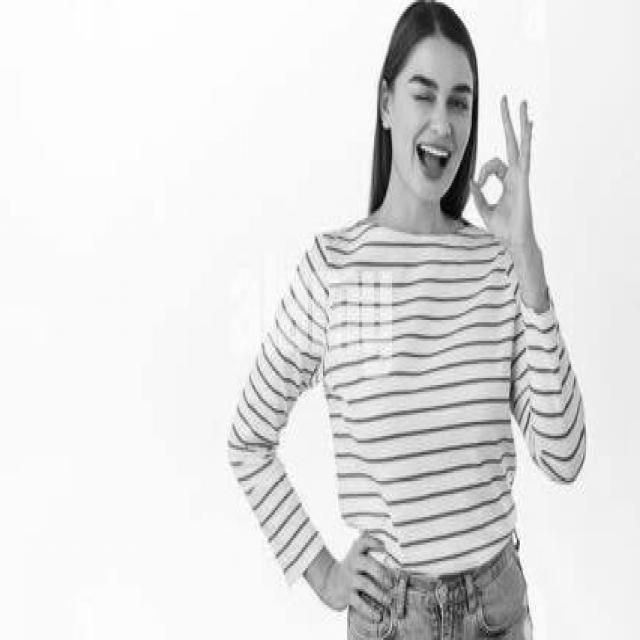perfect: (465, 87, 542, 262)
